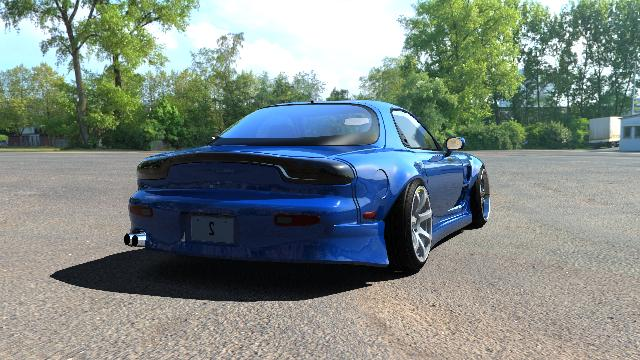License Plate: (192, 216, 234, 244)
